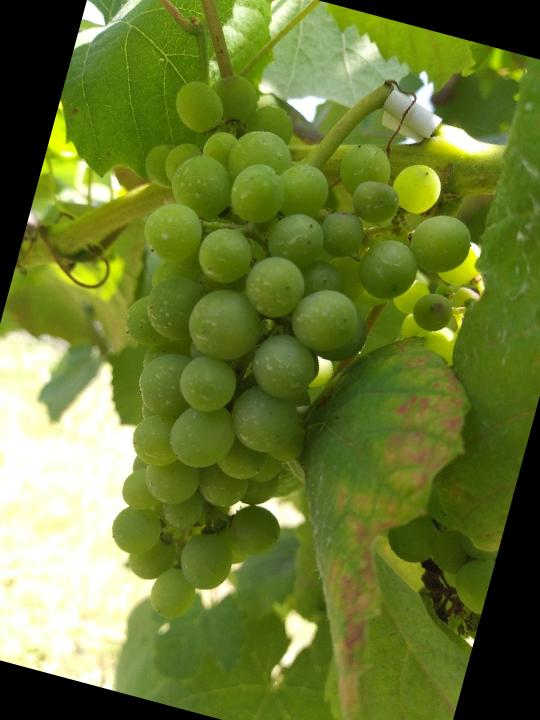grape: (28, 55, 513, 678)
